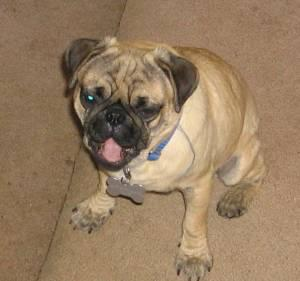dog-pug: (64, 35, 198, 165)
